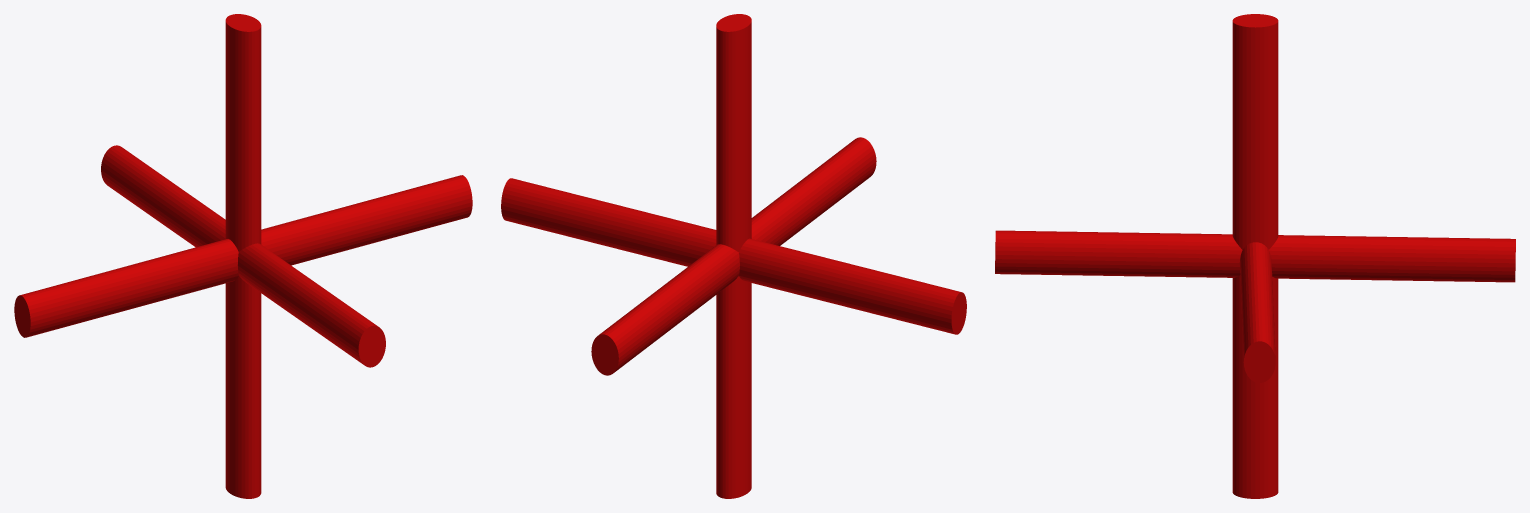
The model's file is curseurBleu.obj.
The picture shows the model from 3 angles, left to right: view 1: azimuth 30°, elevation 25°; view 2: azimuth 150°, elevation 25°; view 3: azimuth 270°, elevation 25°; orthographic projection.
Visible parts, largest first — view 1: Cylinder.002, Cylinder, Cylinder.001; view 2: Cylinder.002, Cylinder, Cylinder.001; view 3: Cylinder.001, Cylinder, Cylinder.002.
Part boxes in pixels (left/top/right/bottom): Cylinder.002: left=14, top=175, right=472, bottom=337; Cylinder: left=225, top=14, right=261, bottom=498; Cylinder.001: left=101, top=145, right=385, bottom=367; Cylinder.002: left=501, top=178, right=966, bottom=334; Cylinder: left=716, top=14, right=751, bottom=498; Cylinder.001: left=591, top=137, right=876, bottom=375; Cylinder.001: left=995, top=230, right=1515, bottom=282; Cylinder: left=1232, top=14, right=1278, bottom=498; Cylinder.002: left=1239, top=242, right=1275, bottom=382.
Size of the model in its own units: 2 by 2 by 2.
